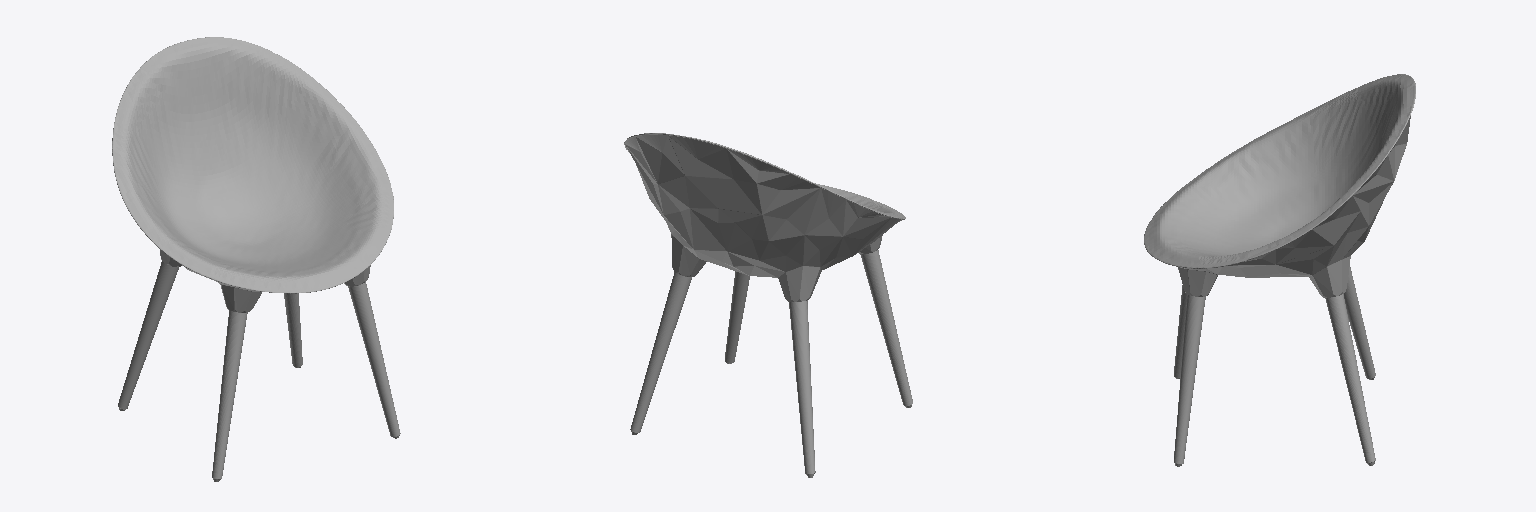
File: chair.obj
The picture shows the model from 3 angles: view 1: azimuth 30°, elevation 25°; view 2: azimuth 150°, elevation 25°; view 3: azimuth 270°, elevation 25°; orthographic projection.
Visible parts, largest first — view 1: diesel_rock_chair_a_studio.001_diesel_rock_chair_a_studio; view 2: diesel_rock_chair_a_studio.001_diesel_rock_chair_a_studio; view 3: diesel_rock_chair_a_studio.001_diesel_rock_chair_a_studio.
Part boxes in pixels (x1,y1,x2,y2): diesel_rock_chair_a_studio.001_diesel_rock_chair_a_studio: (112,37,400,481); diesel_rock_chair_a_studio.001_diesel_rock_chair_a_studio: (624,133,912,477); diesel_rock_chair_a_studio.001_diesel_rock_chair_a_studio: (1144,74,1415,466).
Bounding box in the file's own units: 60.94 × 78.05 × 58.07.